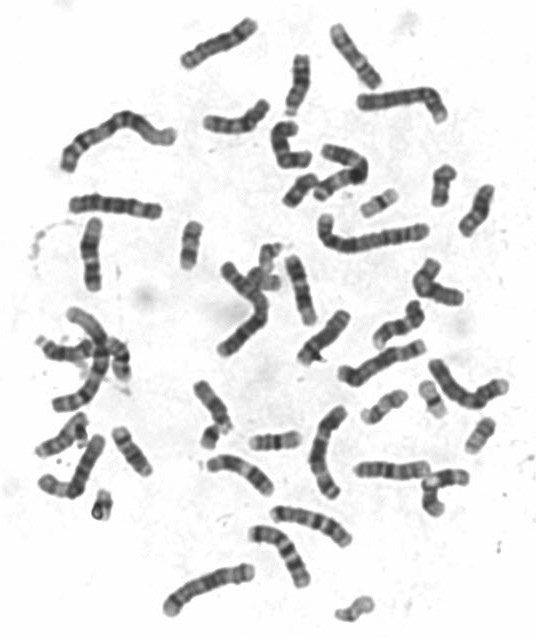chromosomes: (54, 107, 188, 178), (206, 258, 277, 365), (49, 301, 114, 415), (154, 559, 260, 627), (310, 210, 436, 260), (169, 11, 263, 76), (29, 430, 110, 505), (334, 334, 436, 392), (424, 352, 514, 413), (352, 83, 466, 131), (244, 522, 320, 593), (327, 15, 391, 98), (304, 401, 355, 502), (264, 502, 358, 556), (310, 137, 375, 207), (195, 453, 281, 504), (292, 305, 355, 372), (407, 254, 473, 316), (277, 247, 323, 330), (62, 191, 174, 225), (26, 406, 91, 464), (200, 94, 280, 140), (275, 45, 322, 121), (72, 212, 111, 301), (367, 298, 428, 353), (264, 109, 317, 171), (107, 421, 159, 484), (417, 466, 474, 522), (186, 375, 239, 434), (459, 176, 501, 243), (359, 381, 412, 434), (349, 454, 438, 485), (460, 408, 507, 461), (27, 329, 97, 364), (173, 214, 211, 277), (274, 165, 323, 212), (424, 158, 462, 214), (329, 592, 383, 629), (245, 423, 307, 454), (237, 262, 290, 296), (107, 335, 140, 389), (354, 184, 403, 220), (251, 234, 289, 277), (416, 378, 451, 423), (89, 483, 121, 528), (200, 416, 225, 454)
